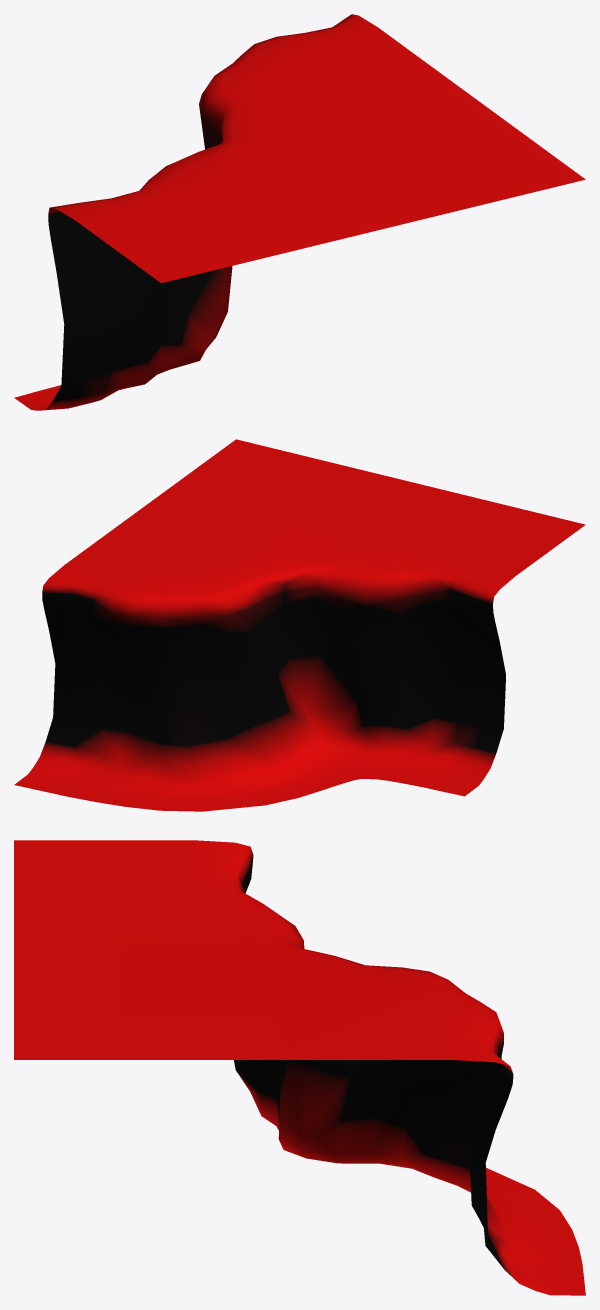
Rendered from GroundCliff05D 1M Background.fbx.
The picture shows the model from 3 angles, top to bottom: view 1: azimuth 30°, elevation 25°; view 2: azimuth 150°, elevation 25°; view 3: azimuth 270°, elevation 25°; orthographic projection. The views are drawn at different scales.
Parts seen in each view (by area): view 1: GroundCliff05D 1M Background; view 2: GroundCliff05D 1M Background; view 3: GroundCliff05D 1M Background.
Boxes of the visible parts, left/top/right/bottom form: GroundCliff05D 1M Background: left=14, top=14, right=585, bottom=410; GroundCliff05D 1M Background: left=14, top=439, right=585, bottom=811; GroundCliff05D 1M Background: left=14, top=840, right=585, bottom=1295.
Size of the model in its own units: 2 by 1 by 2.2.
